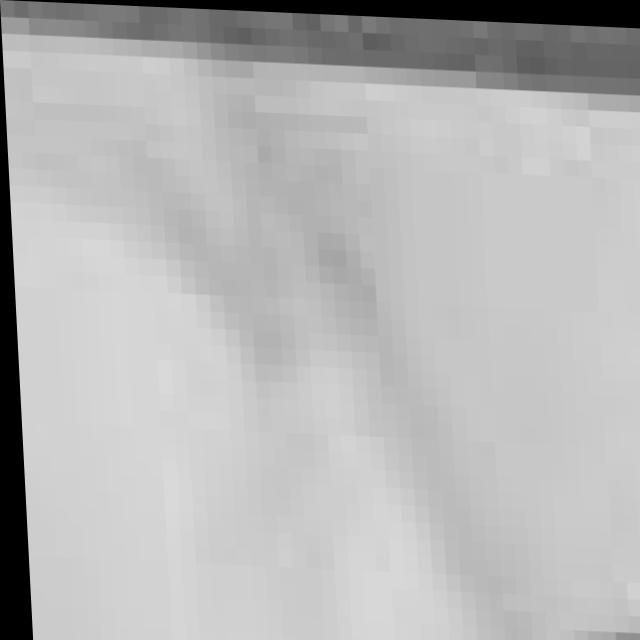fracture: (1, 16, 640, 640)
